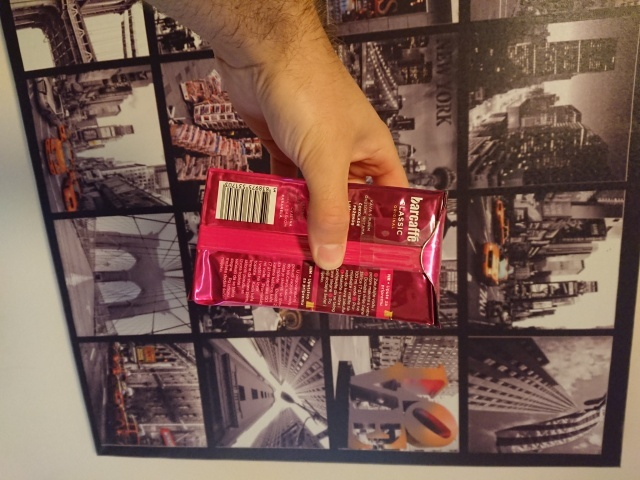Barcaffe Classic Original 225g: (187, 164, 450, 330)
